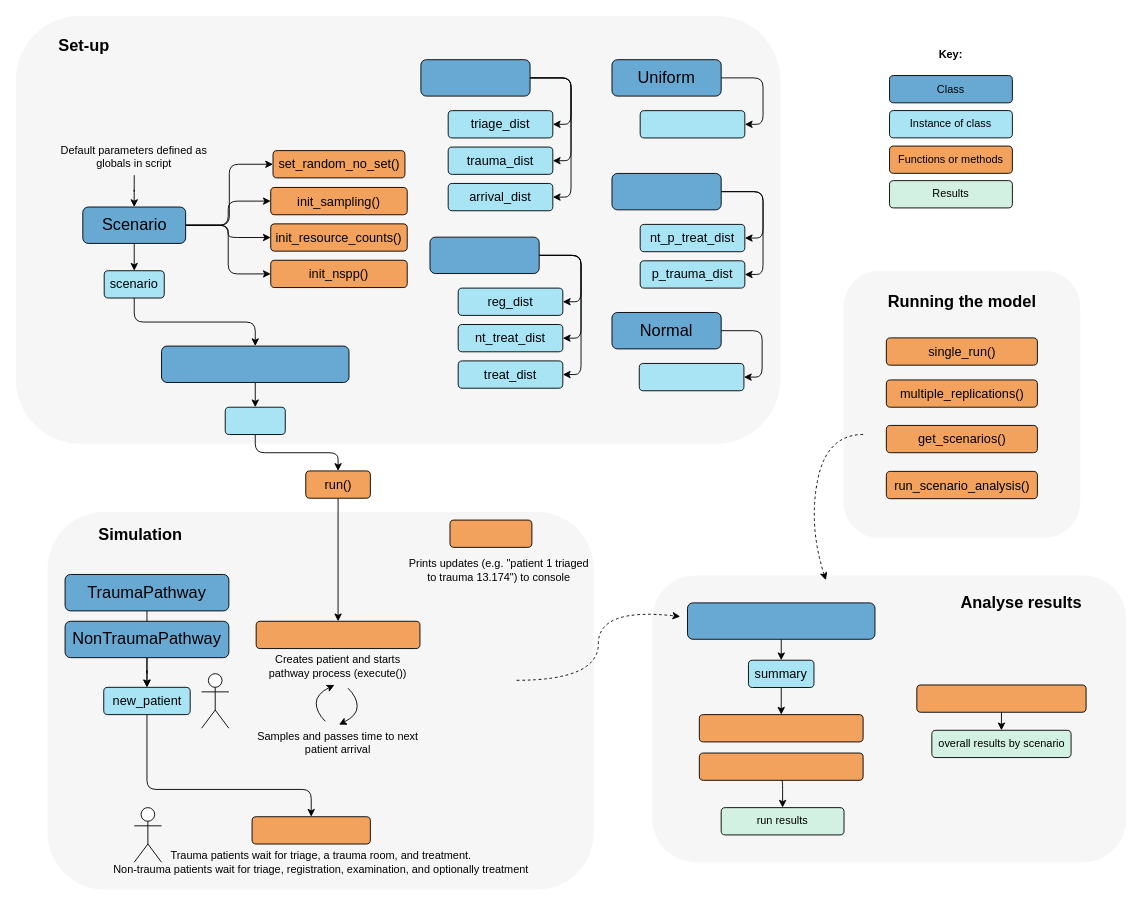
This 1141x910 diagram has some shape labels left out. Here are the shapes that lost their labels. From the top down, the centre of each, then its label:
the point at 475,77: Exponential
the point at 692,124: thinning_rng
the point at 666,191: Bernoulli
the point at 484,255: LogNormal
the point at 255,363: TreatmentCentreModel
the point at 691,377: exam_dist
the point at 254,420: model
the point at 490,533: trace()
the point at 337,634: arrivals_generator()
the point at 781,620: SimulationSummary
the point at 1001,698: scenario_summary_frame()
the point at 780,728: process_run_results()
the point at 780,766: summary_frame()
the point at 310,830: execute()
